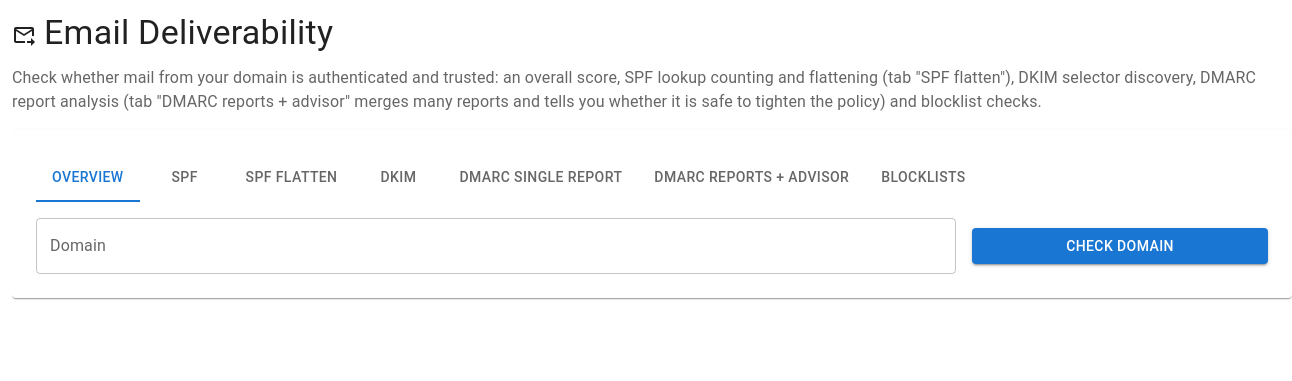
Scenario: shows the API error
Step 1. Click the tab "Blocklists" → (924, 178), box [865, 154, 982, 202]
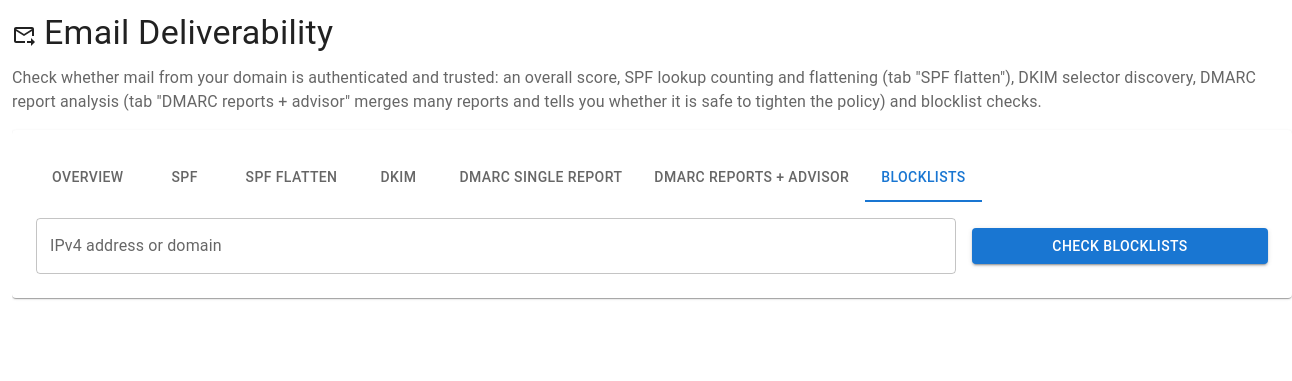
Step 2. Type "10.0.0.1" into the field labelled "IPv4 address or domain" → (496, 246), box [36, 218, 956, 274]
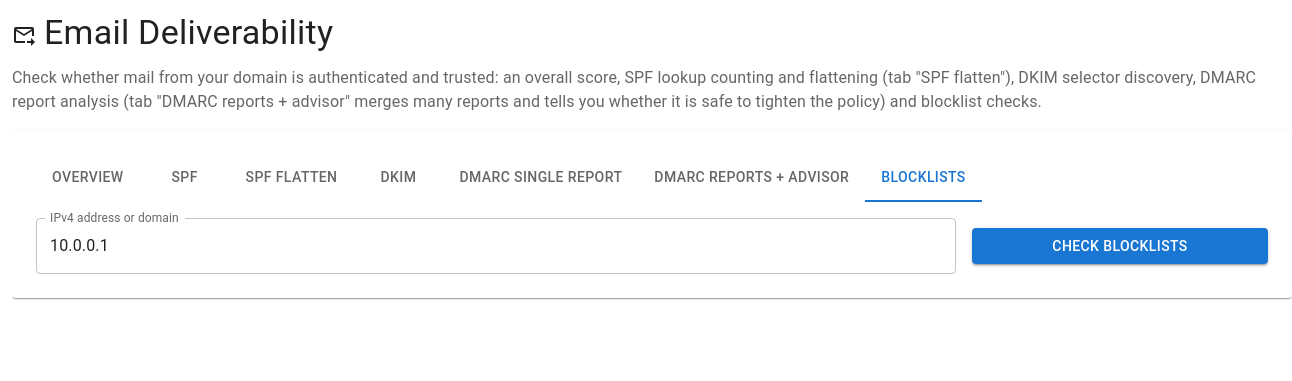
Step 3. Click the button "Check blocklists" → (1120, 246), box [972, 228, 1268, 264]
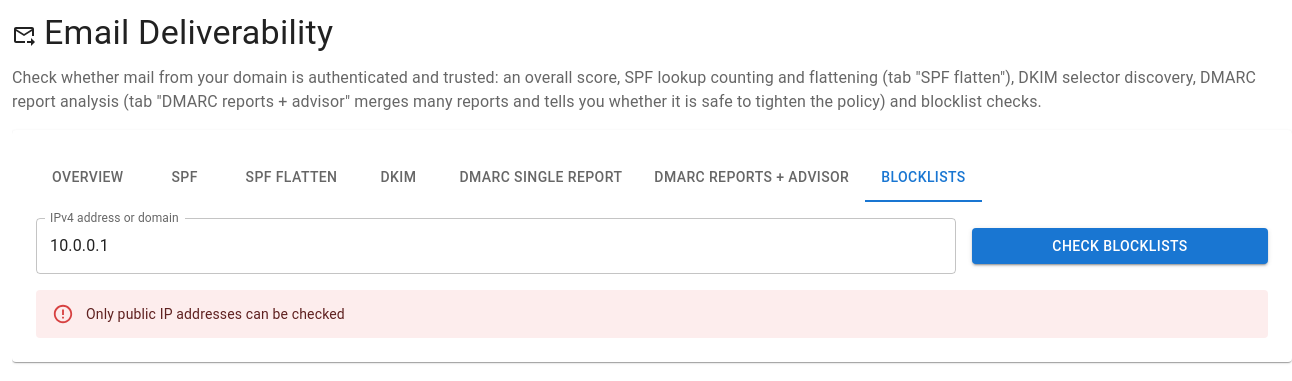
Expected: the text "Only public IP addresses can be checked" is shown, [86, 306, 345, 322]
